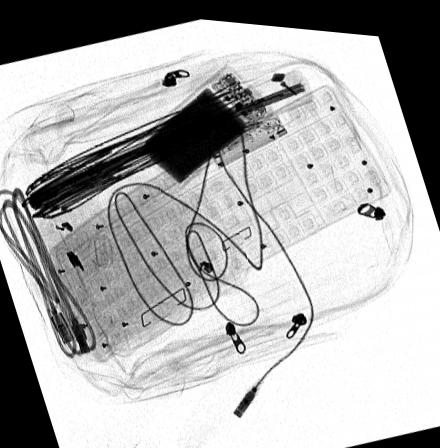Powerbank: (135, 59, 272, 185)
